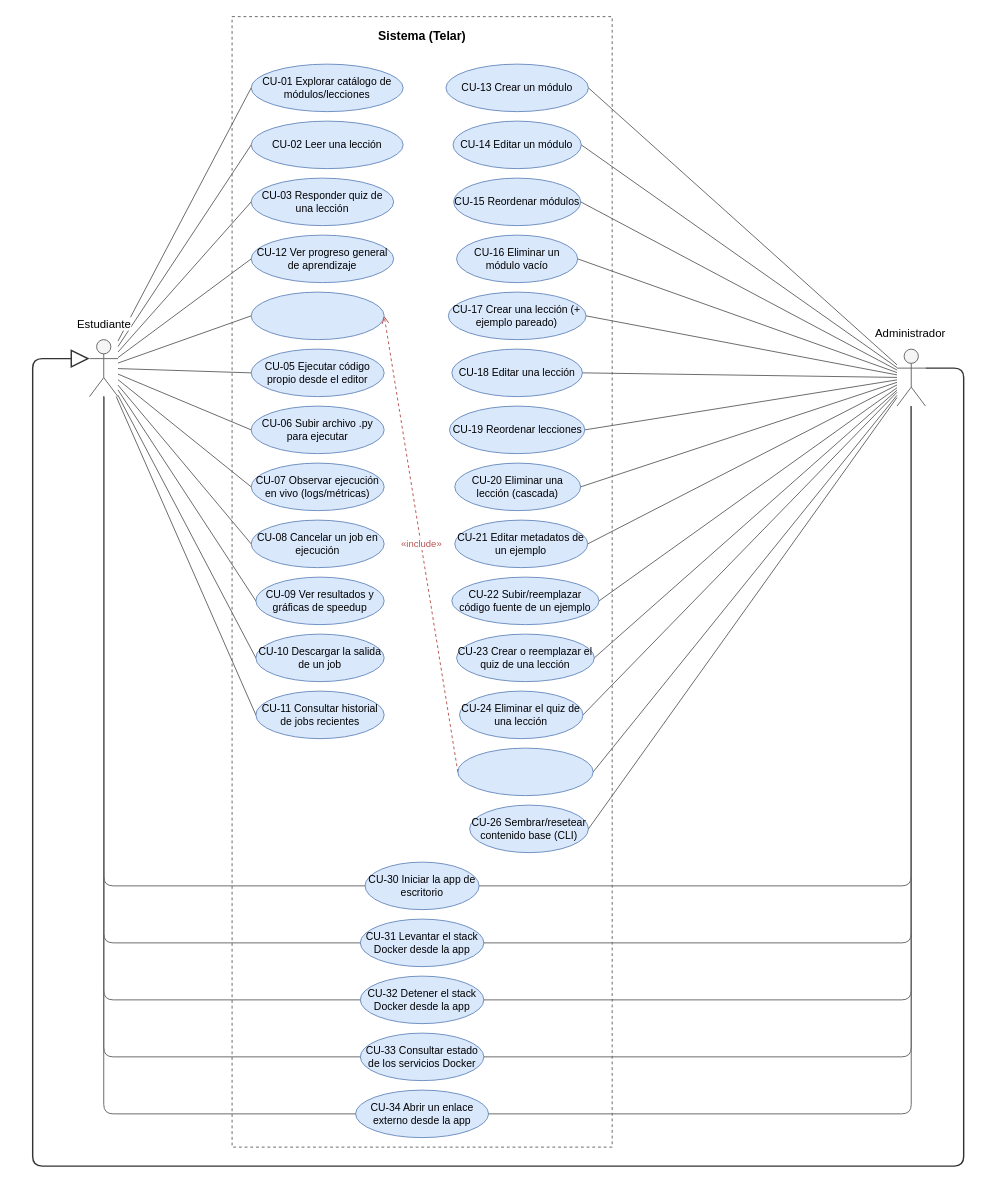
The diagram is 998 pixels wide and 1201 high, and some of its shapes have lost their labels. Each missing label, with the centre of its shape:
"CU-04 Ejecutar un ejemplo del catálogo" goes at (317,315).
"CU-25 Probar un ejemplo en el simulador" goes at (525,771).
